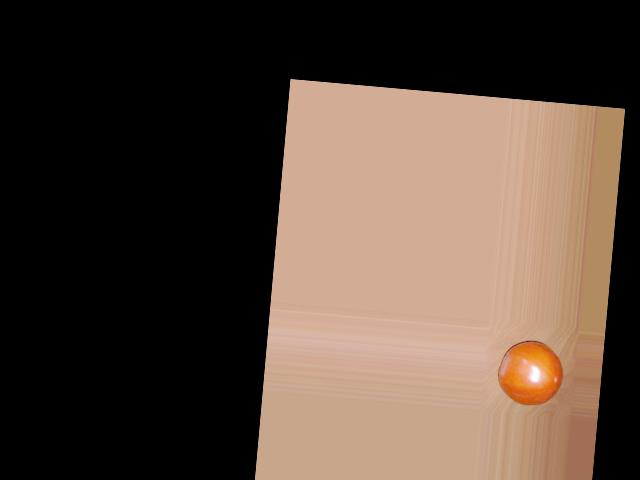tomato: (496, 338, 565, 409)
